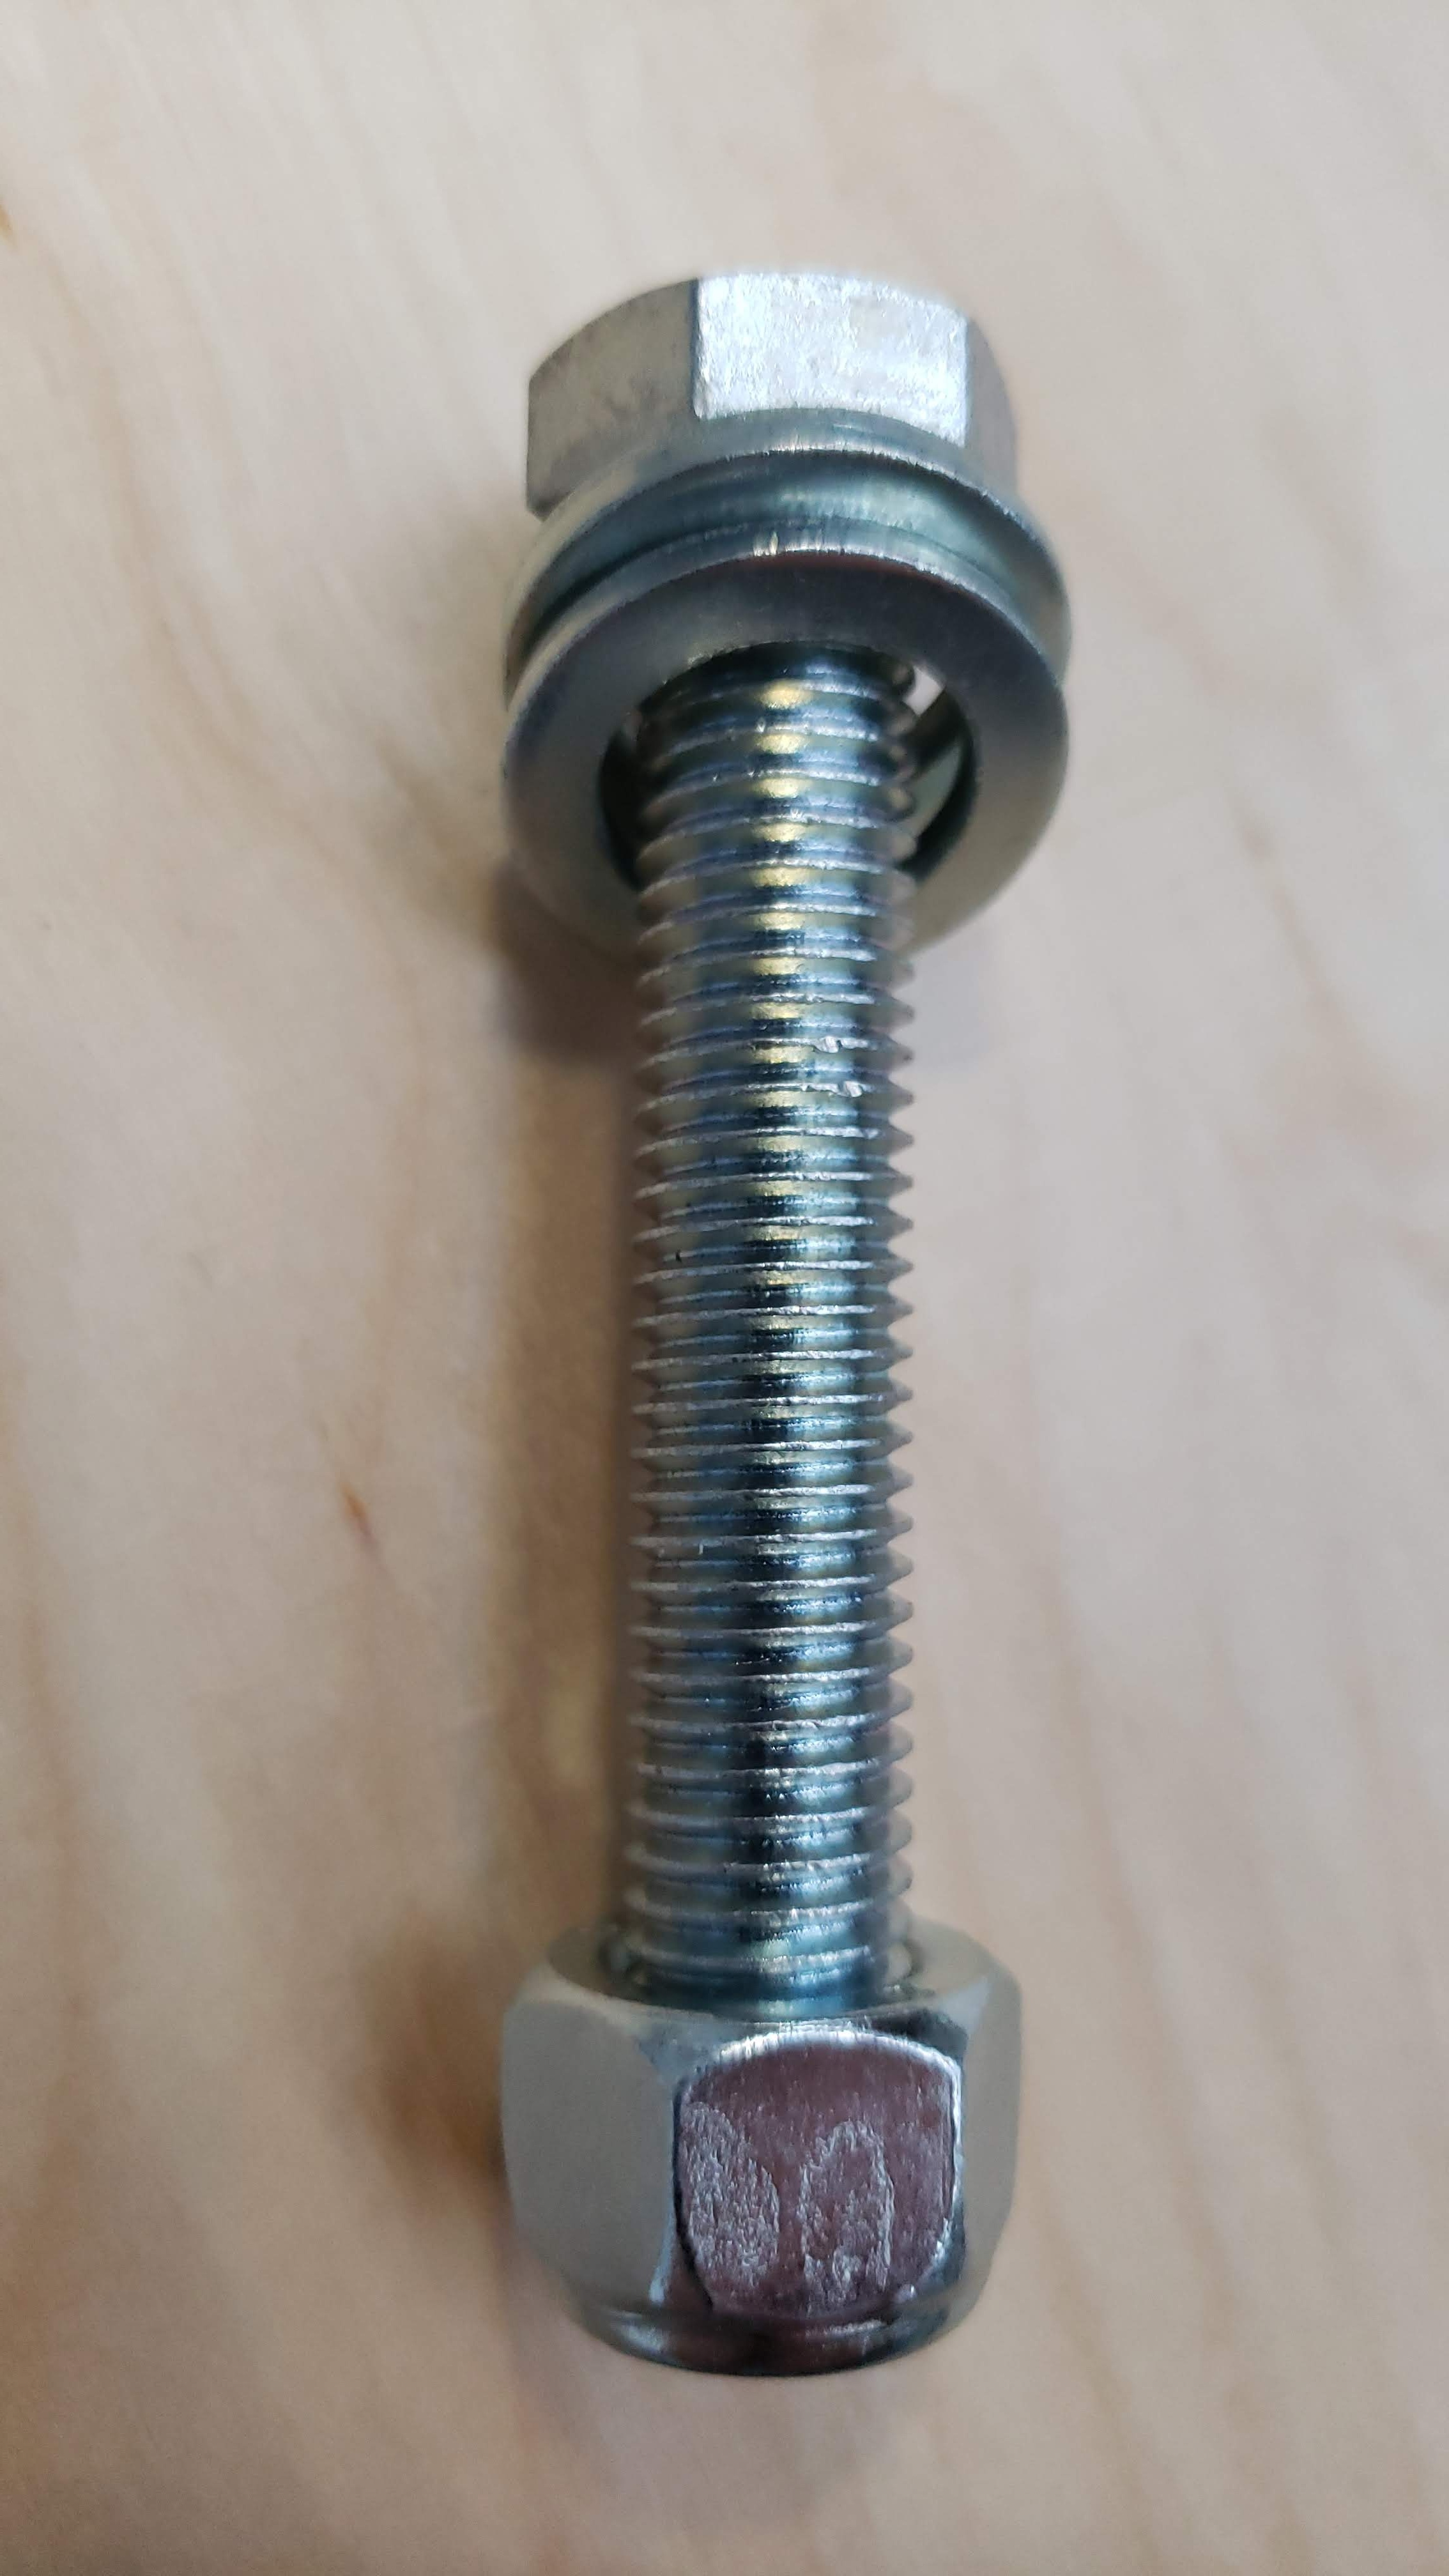FinishedAssembly: (343, 195, 1237, 2433)
